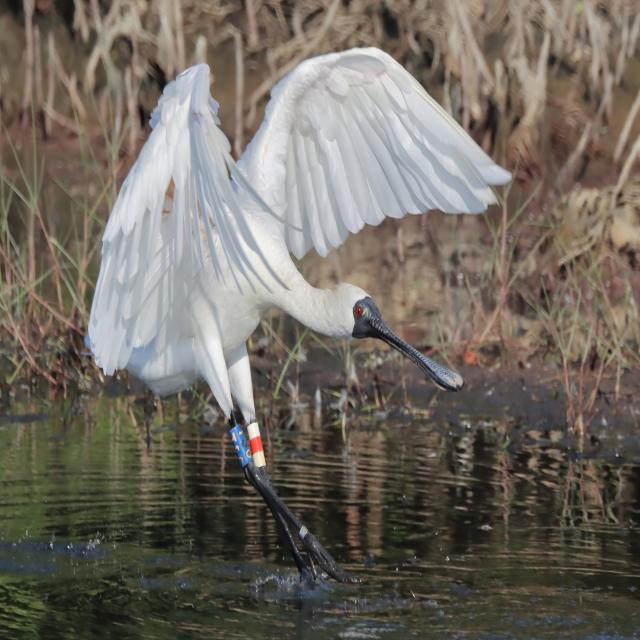Black-faced spoonbill: (88, 49, 510, 580)
